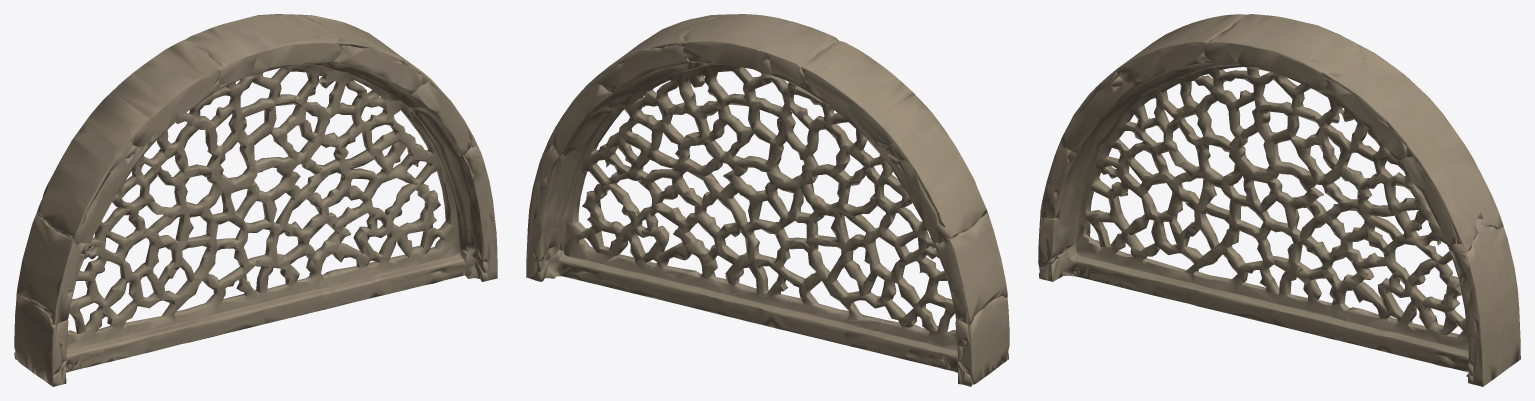
File: SM_DiaoHua_A043C_VTWElementLookDev_cb84ee.glb
3 renders of one model, left to right at view 1: azimuth 30°, elevation 25°; view 2: azimuth 150°, elevation 25°; view 3: azimuth 330°, elevation 25°, orthographic.
Parts seen in each view (by area): view 1: SM_DiaoHua_A043C_VTWElementLookDev; view 2: SM_DiaoHua_A043C_VTWElementLookDev; view 3: SM_DiaoHua_A043C_VTWElementLookDev.
Part boxes in pixels (left/top/right/bottom): SM_DiaoHua_A043C_VTWElementLookDev: left=14, top=14, right=497, bottom=386; SM_DiaoHua_A043C_VTWElementLookDev: left=526, top=14, right=1009, bottom=386; SM_DiaoHua_A043C_VTWElementLookDev: left=1038, top=14, right=1520, bottom=386.
Bounding box in the file's own units: 1.23 × 0.7562 × 0.1844.
1 material, 1 textured.
